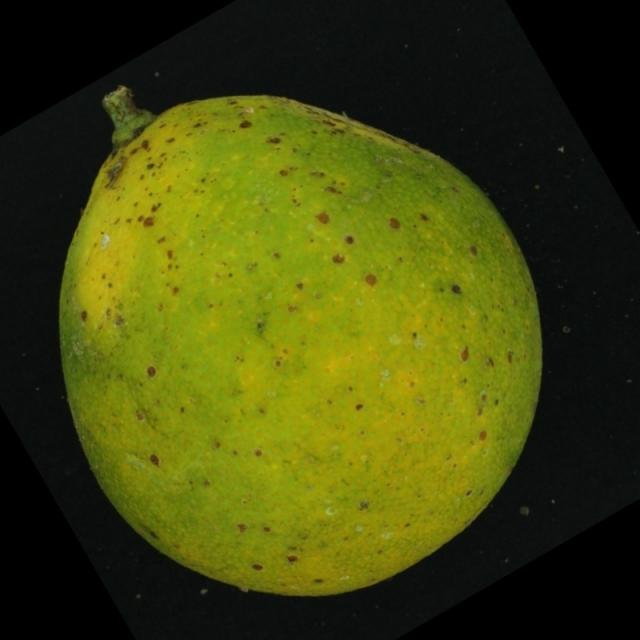grenning: (32, 56, 578, 620)
